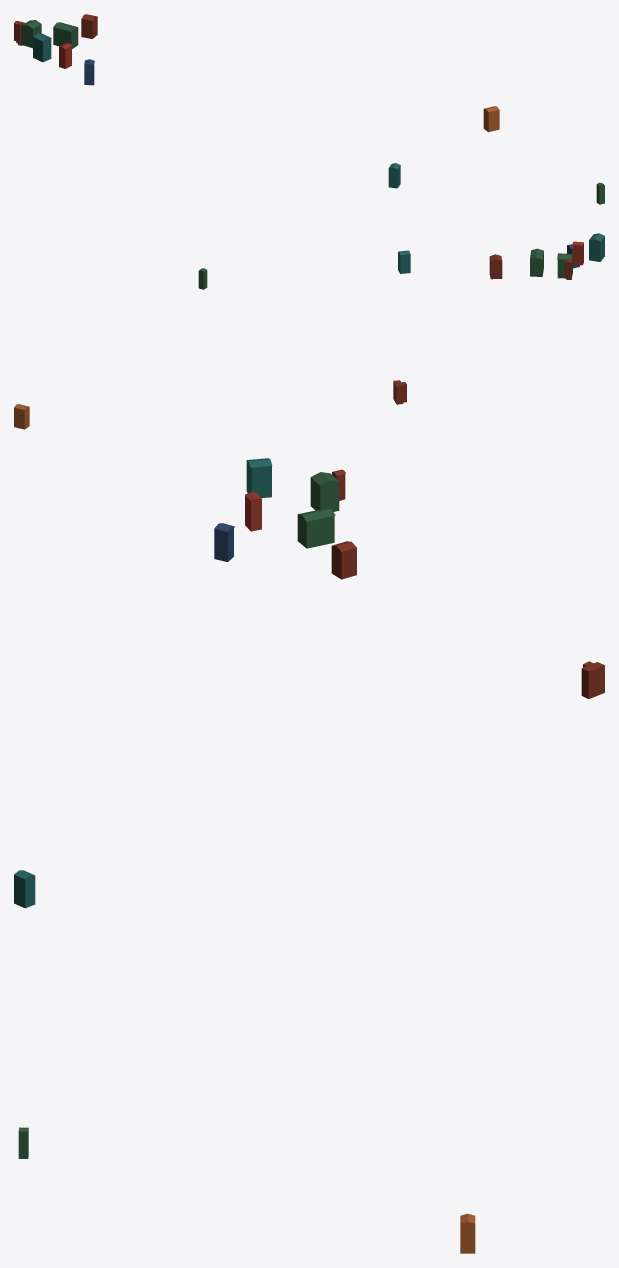
Rendered from near-16-54729-29747.f8ad7f00.glb.
The picture shows the model from 3 angles, top to bottom: view 1: azimuth 30°, elevation 25°; view 2: azimuth 150°, elevation 25°; view 3: azimuth 270°, elevation 25°; orthographic projection. The views are drawn at different scales.
Bounding box in the file's own units: 526 × 256 × 336.
